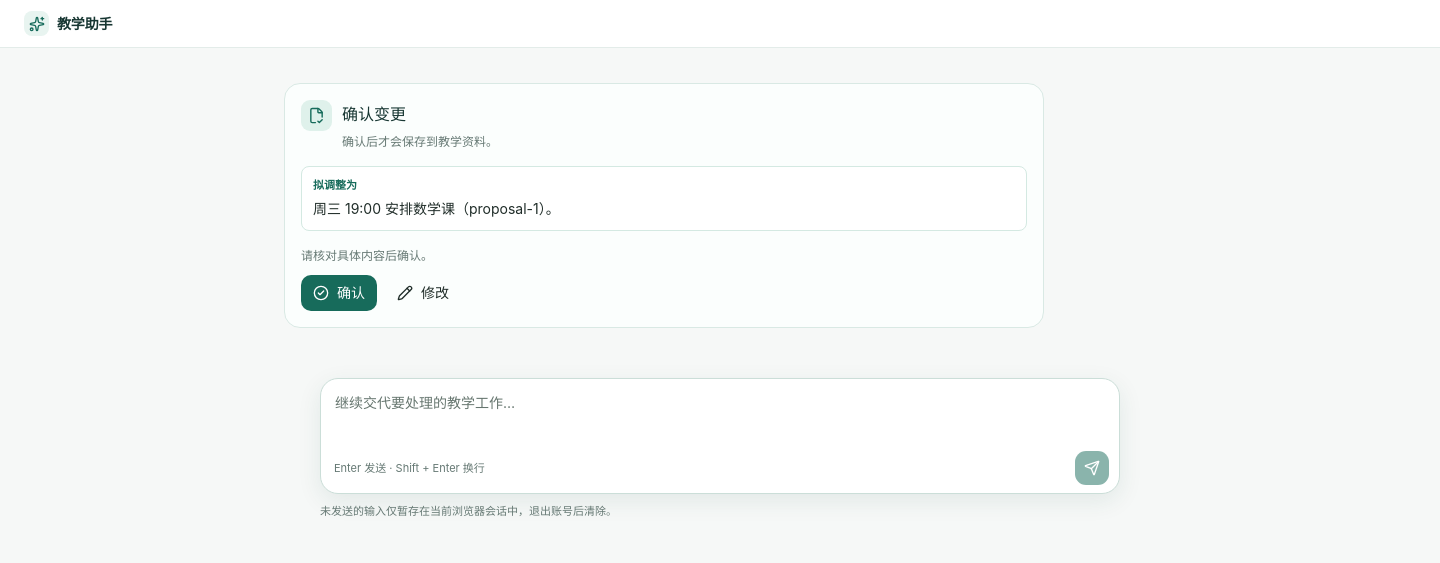
Test case: confirmation modification flow › keeps the proposal available when cancellation cannot be verified
This screenshot has width=1440, height=563.
Click the button "修改" at [423, 294], box x1=385 y1=276 x2=461 y2=312
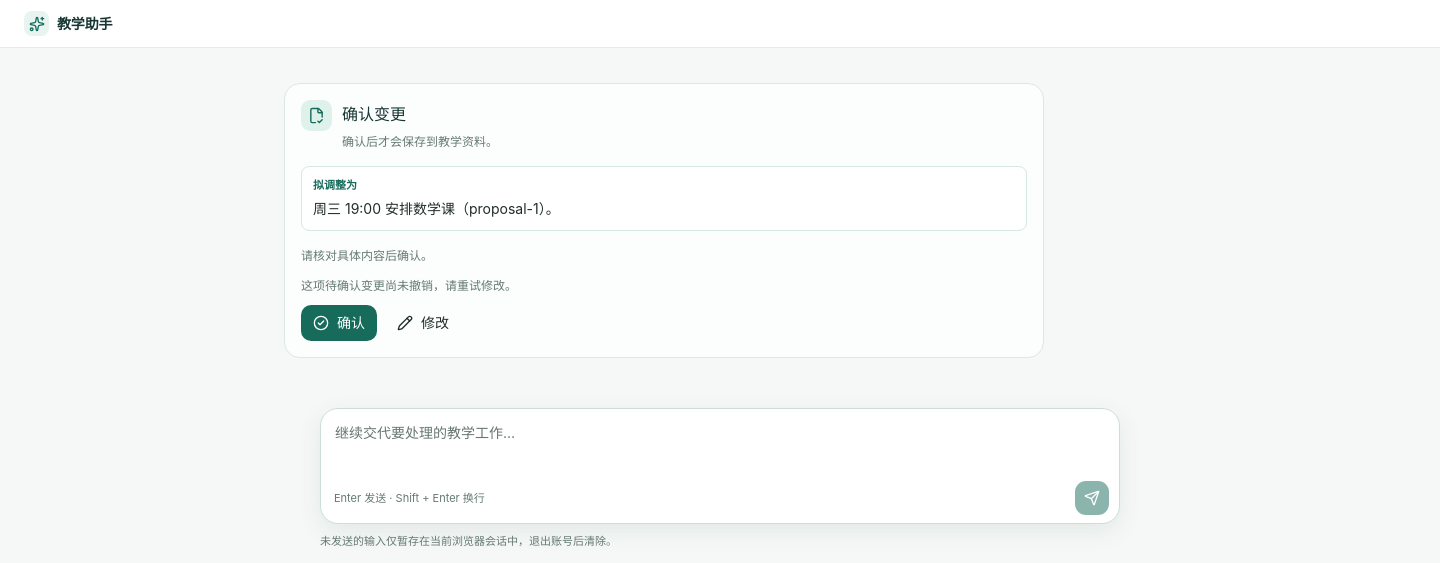
Expected: the text box named "交给教学助手的工作" is empty, x1=334 y1=418 x2=1109 y2=476
Now the text "这项待确认变更尚未撤销，请重试修改。" is shown, box x1=301 y1=278 x2=517 y2=294
